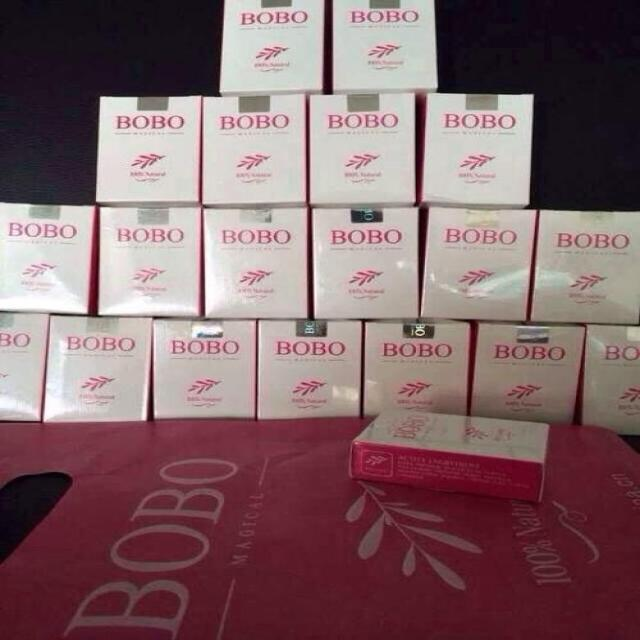box: (347, 408, 550, 505), (420, 206, 538, 322), (420, 94, 535, 208), (529, 210, 640, 326), (202, 207, 312, 319), (310, 93, 417, 208), (311, 207, 420, 319), (468, 321, 586, 424), (200, 96, 307, 208), (97, 206, 204, 318), (96, 95, 202, 207), (42, 316, 152, 422), (0, 201, 97, 315), (362, 318, 470, 416), (152, 320, 257, 420), (257, 320, 361, 420), (219, 0, 325, 97), (333, 0, 438, 94), (573, 324, 640, 436), (0, 312, 51, 422)
